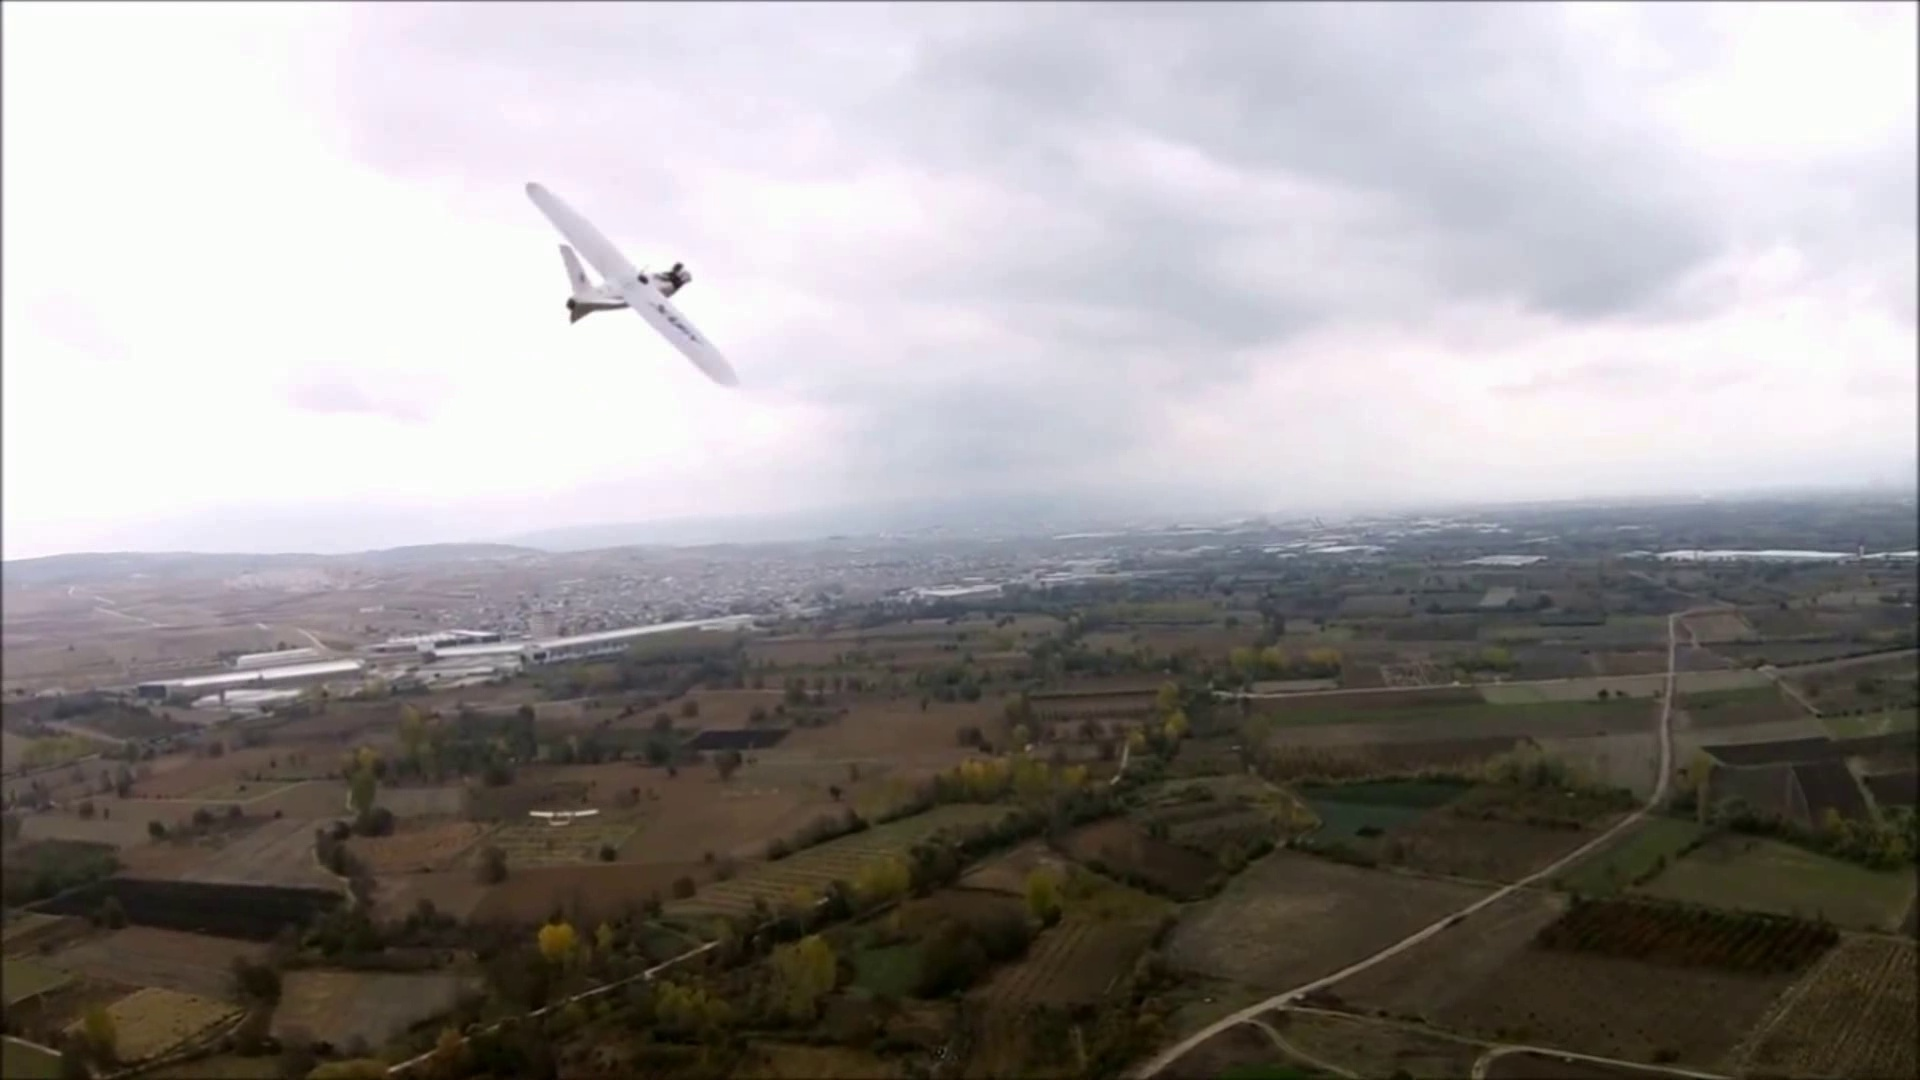airplane: (522, 180, 739, 384)
